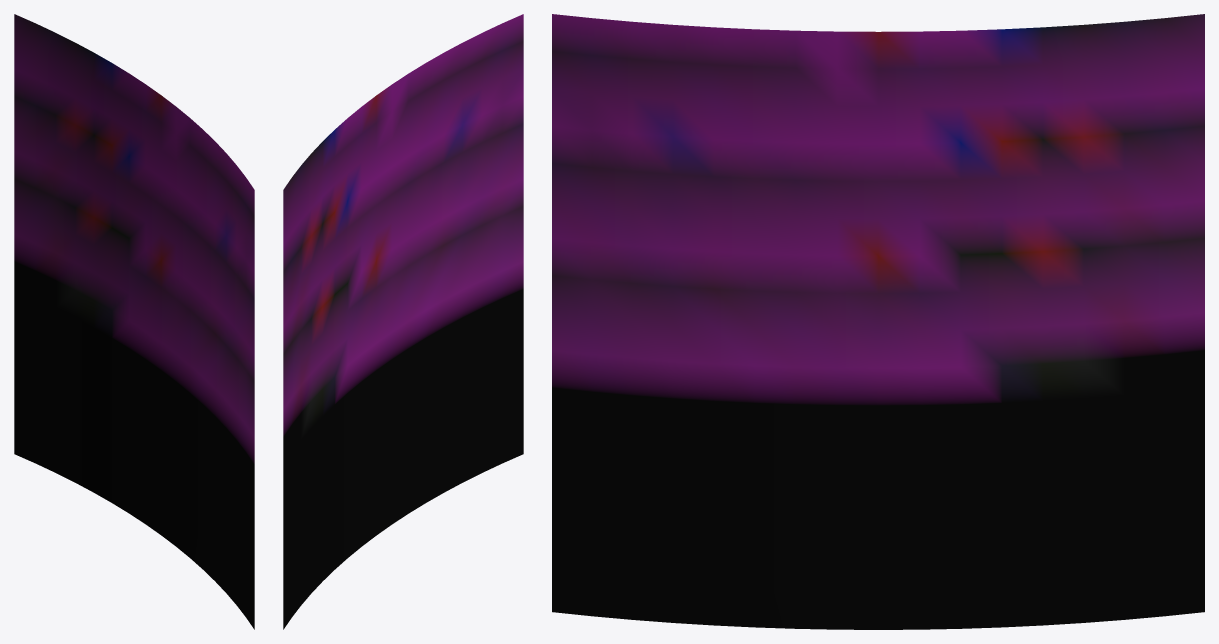
File: Loft_Quad_01.gltf
3 views of the same model, side by side, from view 1: azimuth 30°, elevation 25°; view 2: azimuth 150°, elevation 25°; view 3: azimuth 270°, elevation 25° (orthographic). The views are drawn at different scales.
Visible parts, largest first — view 1: Loft_Quad_01; view 2: Loft_Quad_01; view 3: Loft_Quad_01.
Part boxes in pixels (box(x1,y1,x2,y2)): Loft_Quad_01: box(14, 14, 254, 629); Loft_Quad_01: box(283, 14, 523, 629); Loft_Quad_01: box(552, 14, 1204, 629).
Bounding box in the file's own units: 0.3277 × 5.12 × 5.06.
